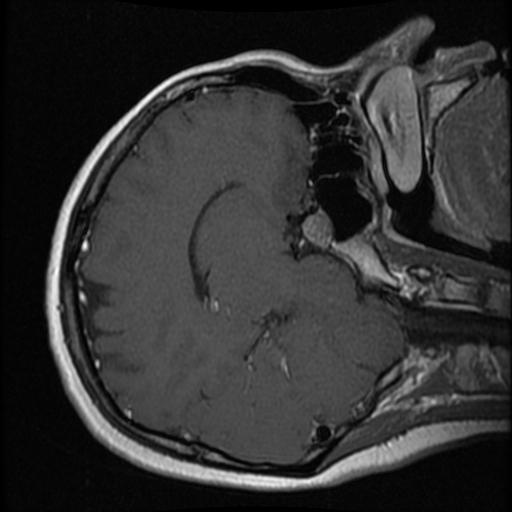pituitary tumour: (302, 211, 331, 246)
